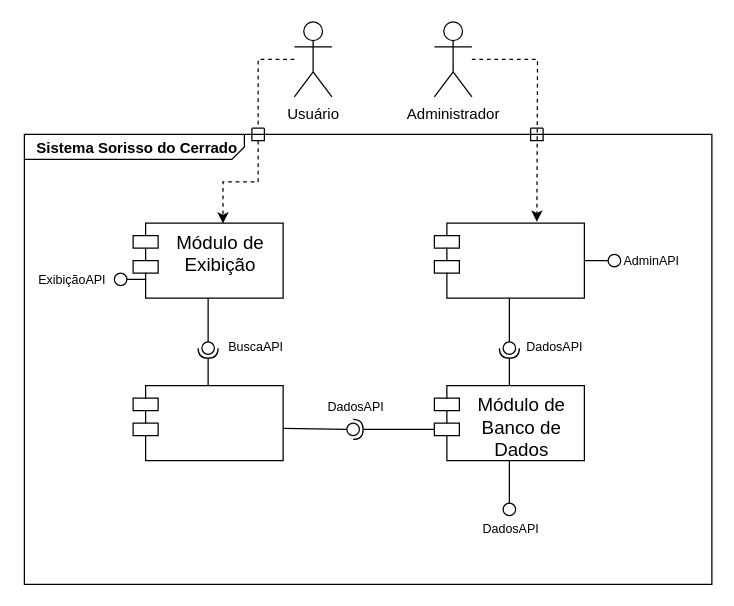
Image size: 734x606. Some labels were removed from this diagram. The shapes that lost their labels are listed below. From the top down, each one's centre as x and y in pixels, then its label:
At (508,260): "Módulo de Administração".
At (207,422): "Módulo de Busca".
